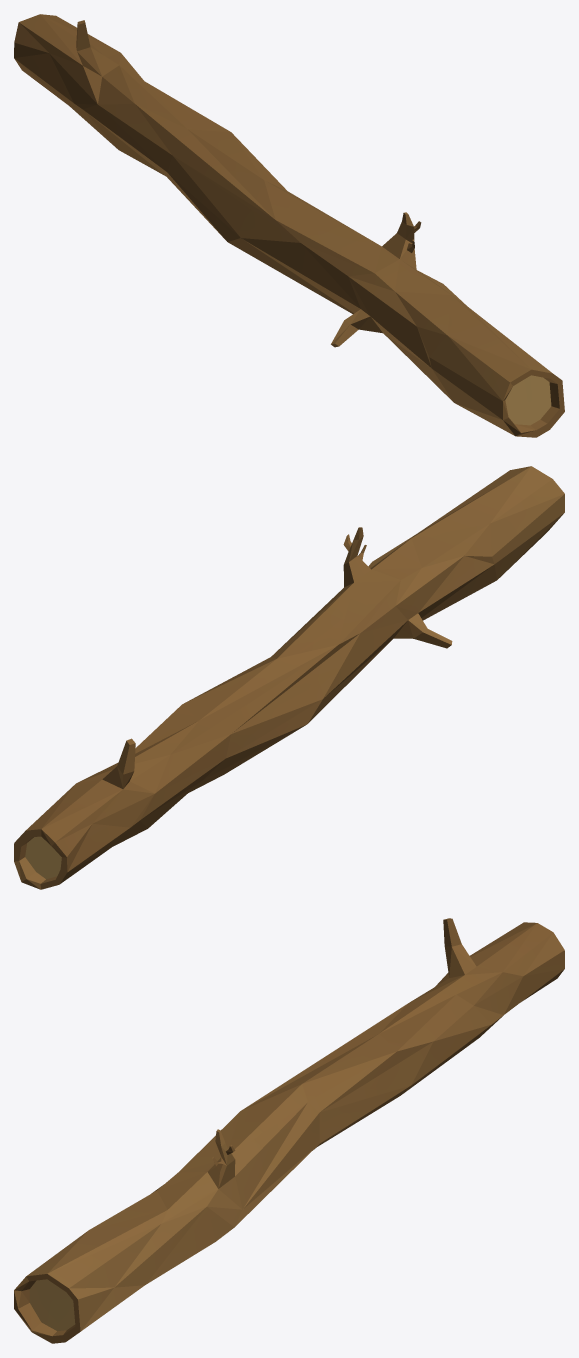
Rendered from log_8.obj.
The picture shows the model from 3 angles, top to bottom: view 1: azimuth 30°, elevation 25°; view 2: azimuth 150°, elevation 25°; view 3: azimuth 330°, elevation 25°; orthographic projection.
Parts seen in each view (by area): view 1: log_8_Material; view 2: log_8_Material; view 3: log_8_Material.
Part boxes in pixels (<box>): log_8_Material: <box>14,14,564,437</box>; log_8_Material: <box>14,466,564,889</box>; log_8_Material: <box>14,918,564,1343</box>.
Size of the model in its own units: 0.1005 by 0.1122 by 0.8587.
